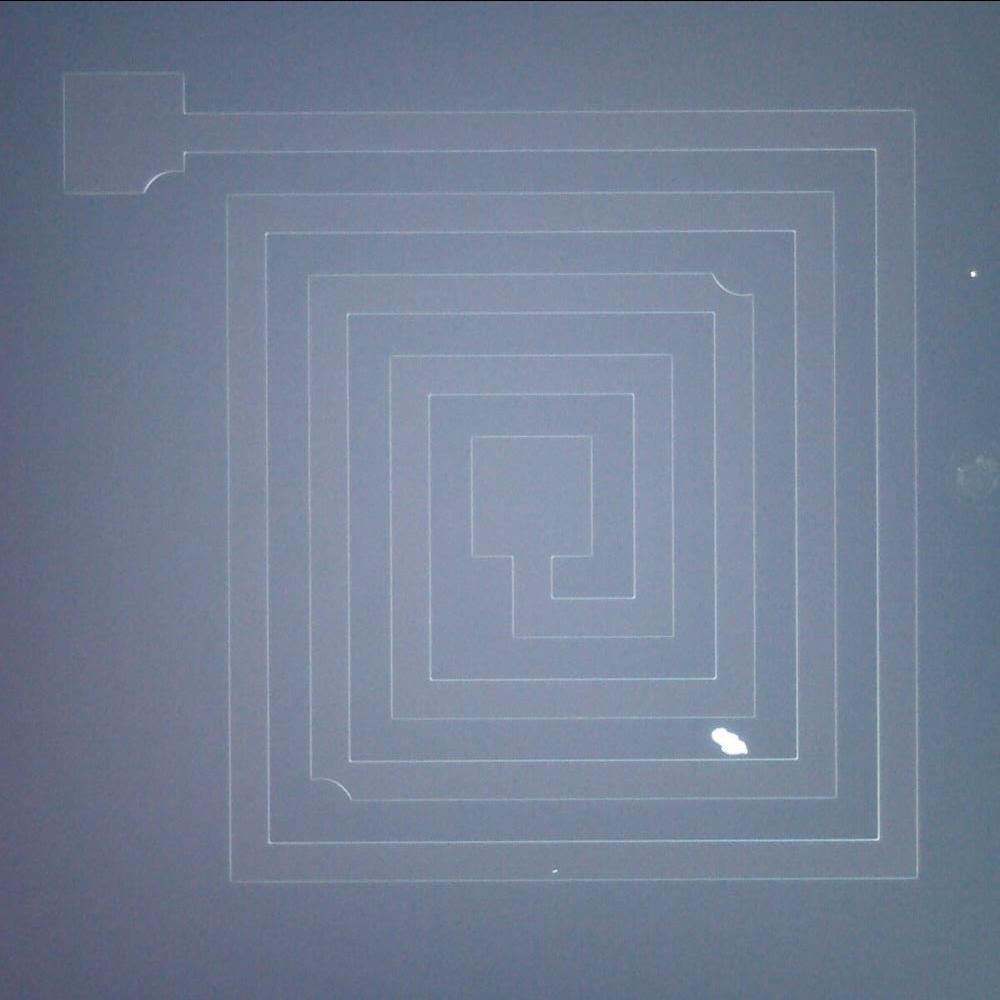curve circuit: (698, 260, 769, 304), (140, 160, 196, 208), (302, 768, 359, 814)
dot: (958, 256, 992, 291), (540, 852, 569, 883)
spot: (700, 716, 752, 765)
